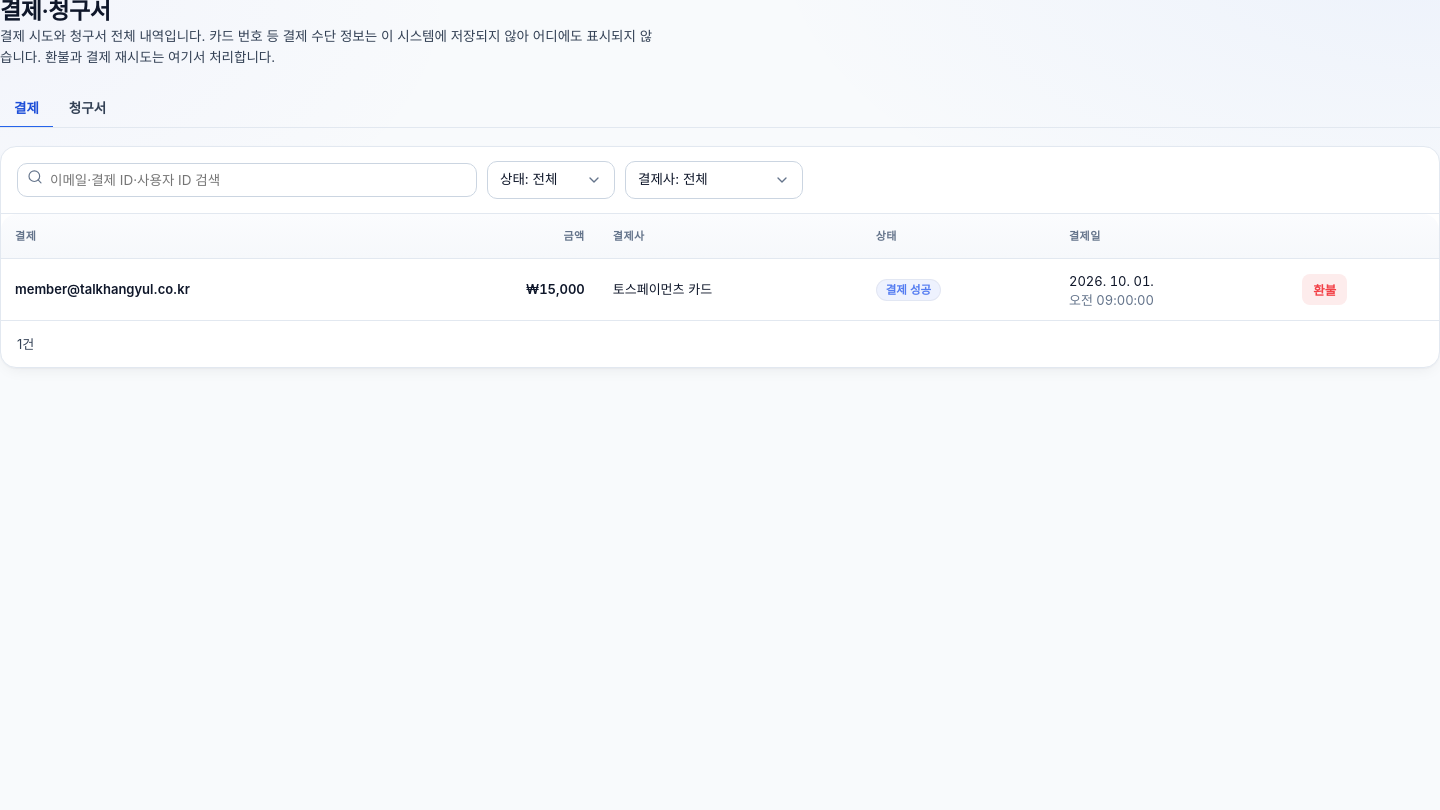
the refund dialog › explains a refusal from the provider and keeps the dialog open
Click the button "환불": point(1325, 290) [1302,274,1347,305]
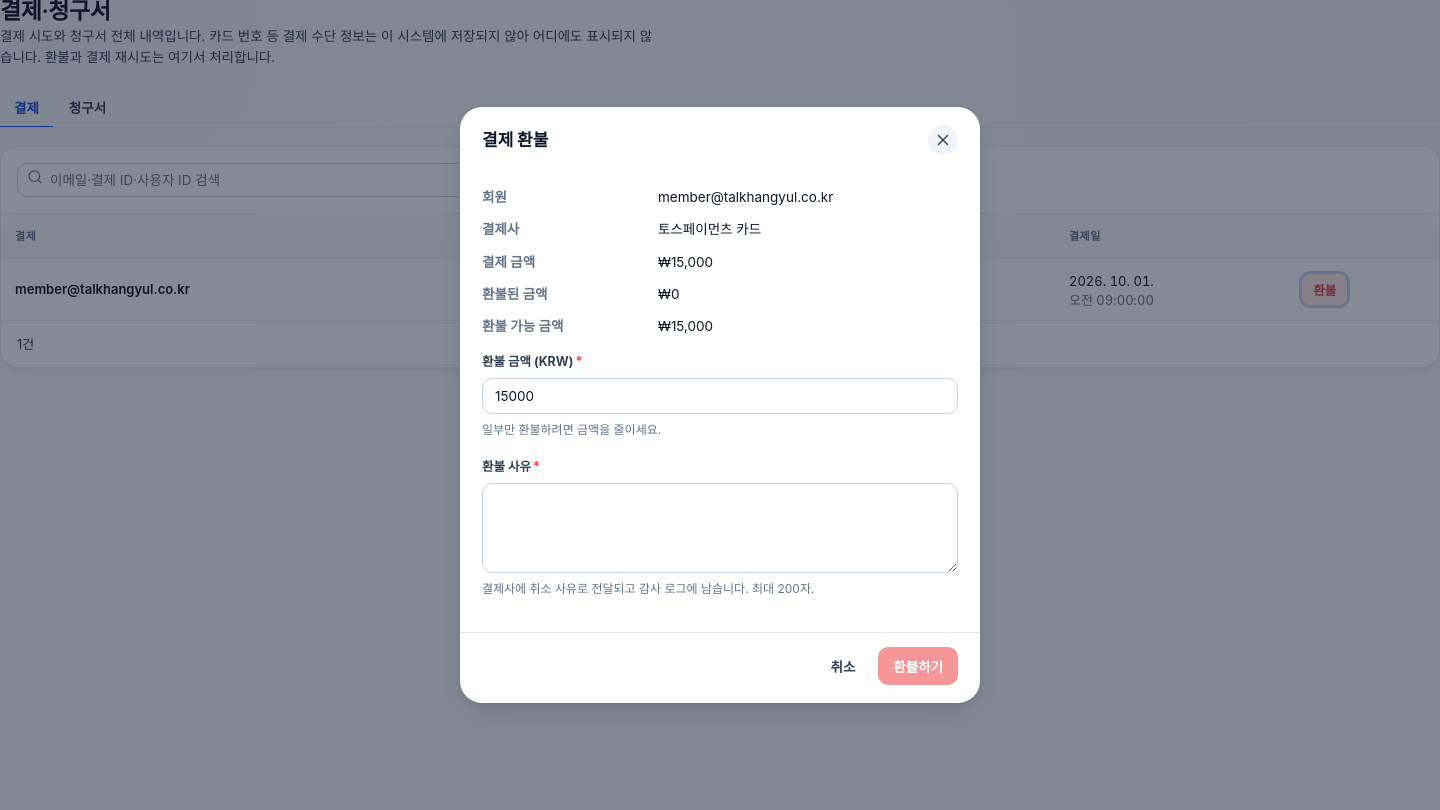
In the text box labelled "환불 사유": point(720, 528) [482,483,958,573], type "고객 요청"
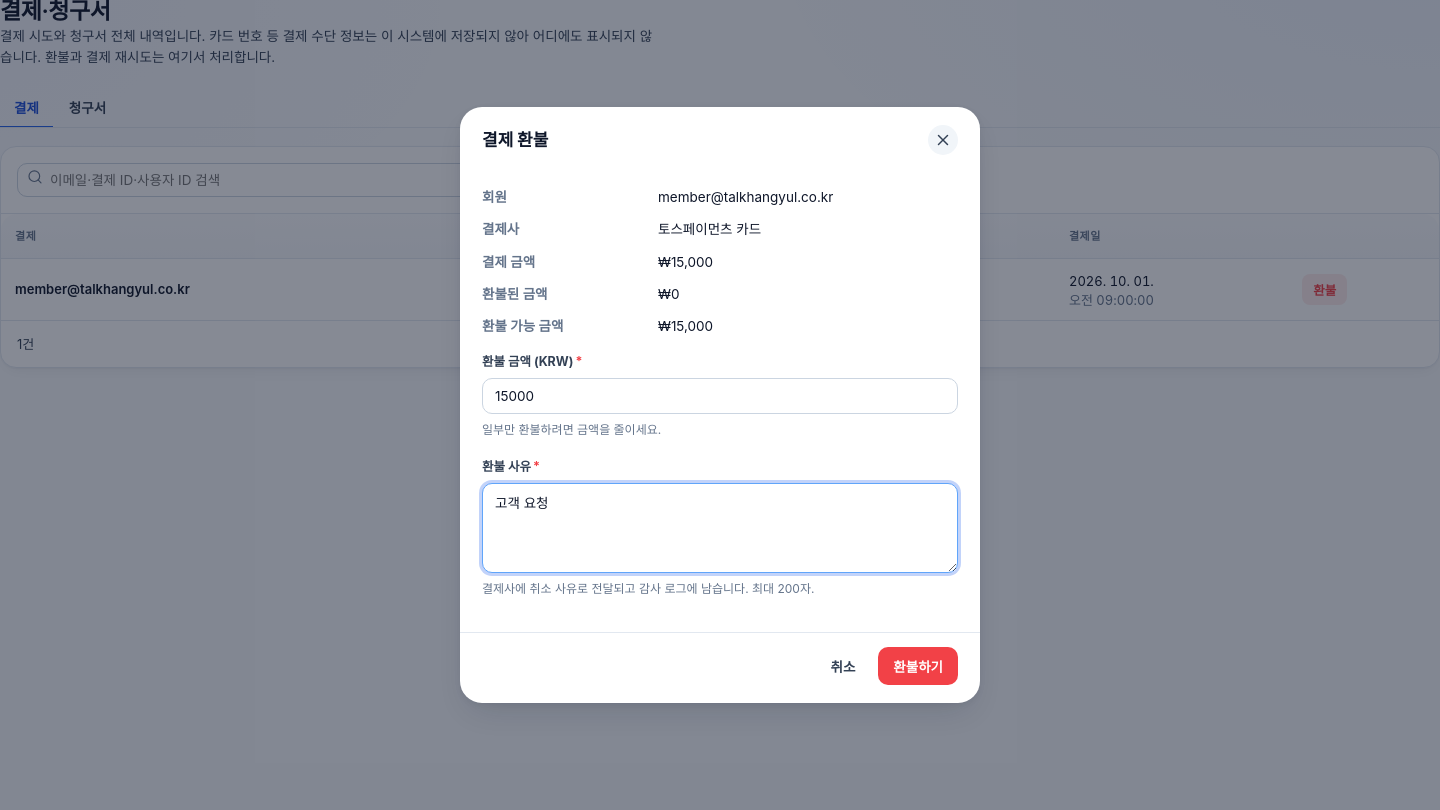
Click the button "환불하기": point(918, 666) [878,647,958,685]
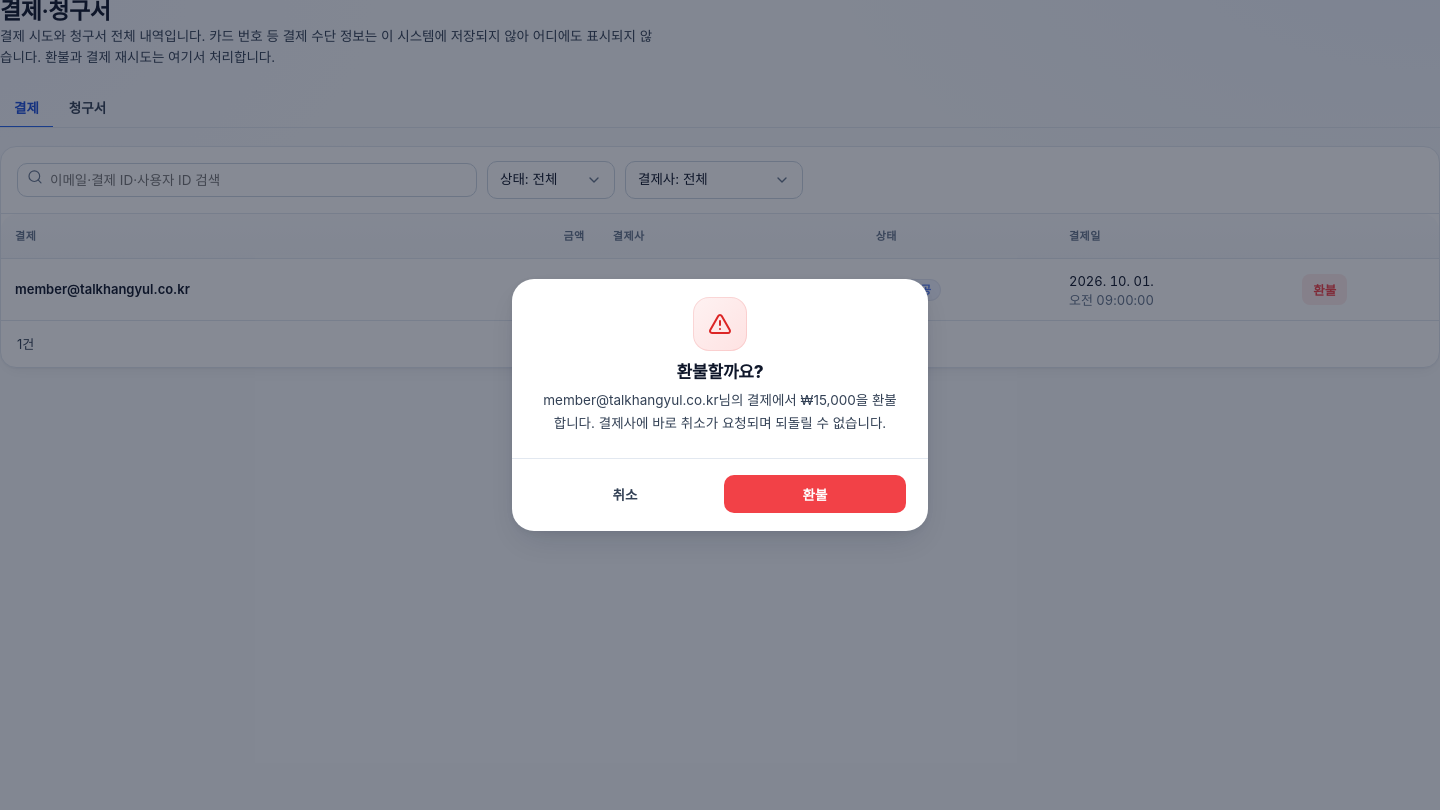
Click the button "환불": point(815, 494) [724,475,906,513]
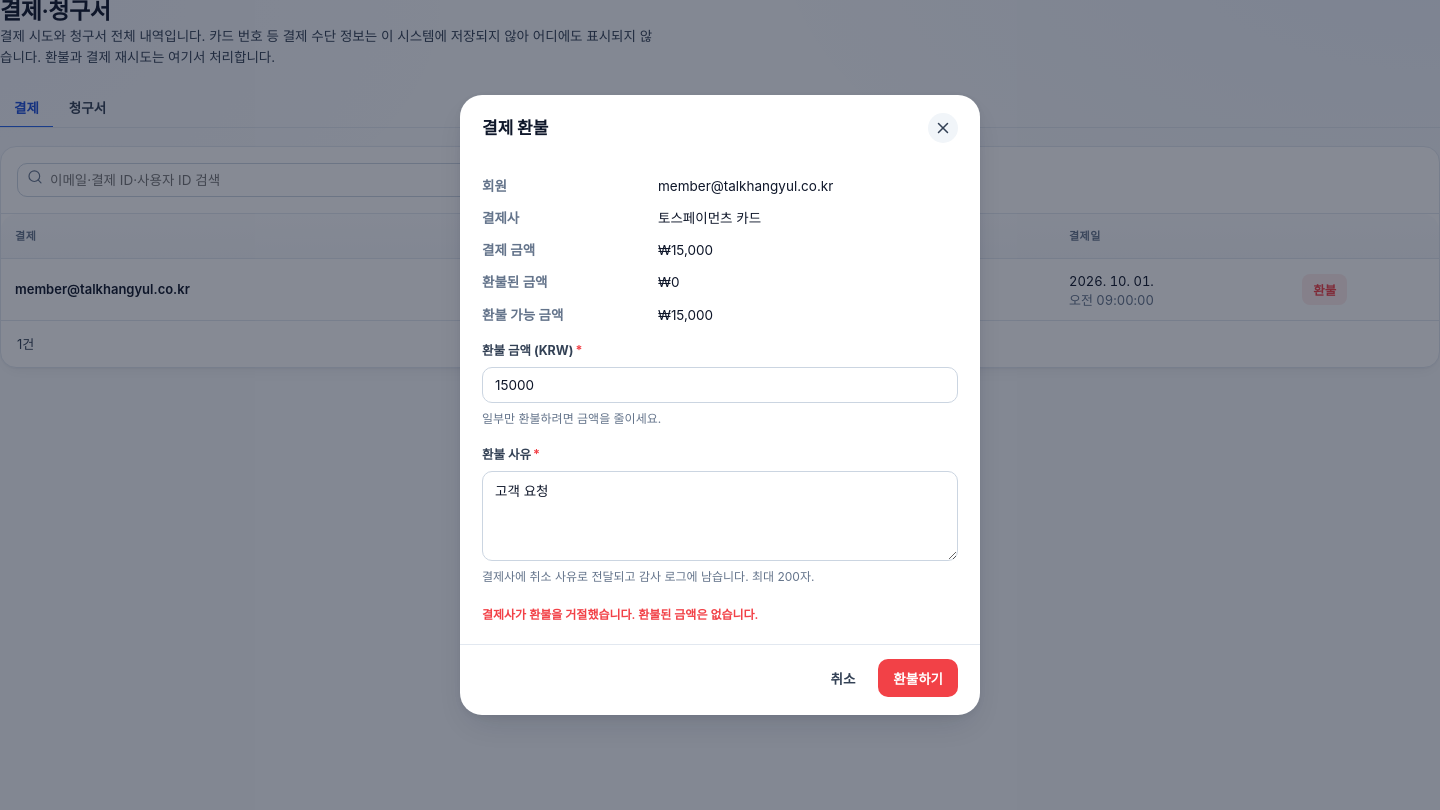
Now the message shows "결제사가 환불을 거절했습니다", box [482,607,758,622]
